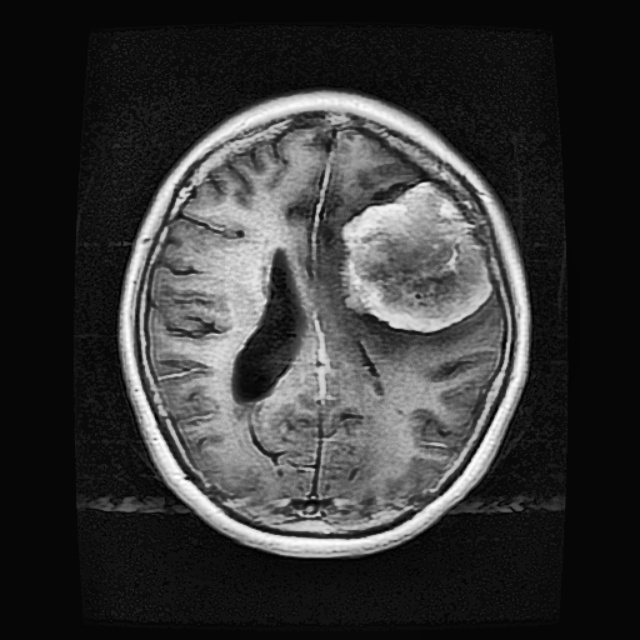Pituitary: (343, 182, 493, 330)
